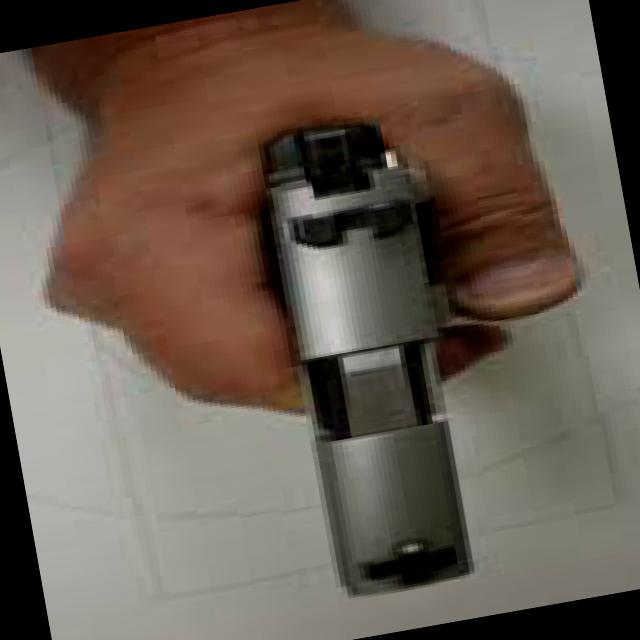handgun: (188, 99, 508, 621)
